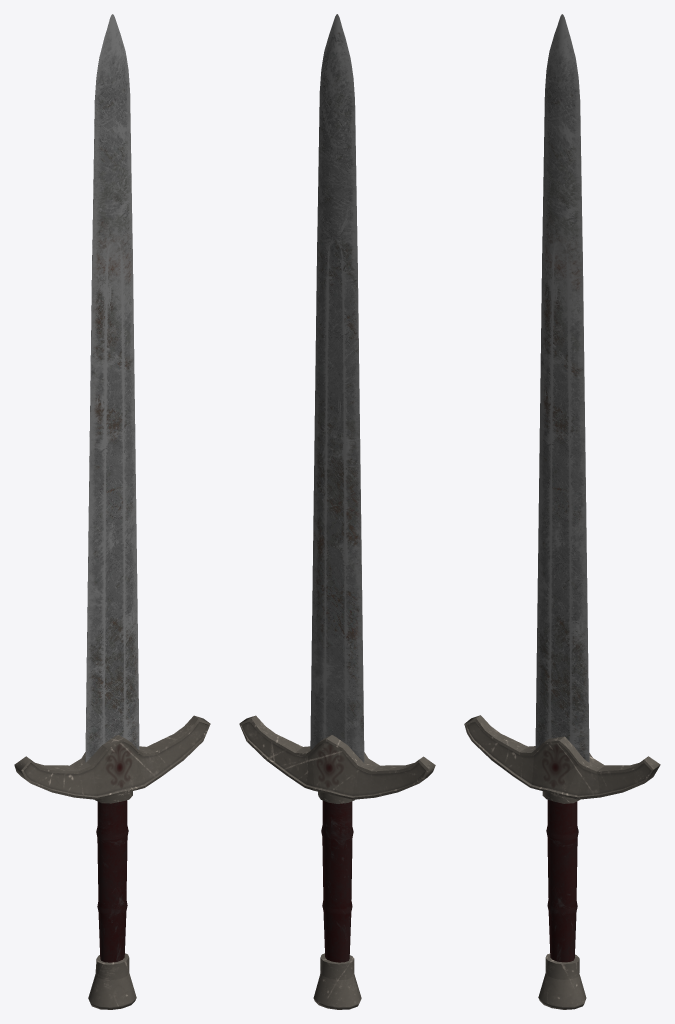
The model's file is ARC0510128.fbx.
3 renders of one model, left to right at view 1: azimuth 30°, elevation 25°; view 2: azimuth 150°, elevation 25°; view 3: azimuth 330°, elevation 25°, orthographic.
Parts seen in each view (by area): view 1: smARC0510128; view 2: smARC0510128; view 3: smARC0510128.
Part boxes in pixels (x1,y1,x2,y2): smARC0510128: (14, 14, 210, 1009); smARC0510128: (239, 14, 435, 1009); smARC0510128: (464, 14, 660, 1009).
Bounding box in the file's own units: 23.84 × 119 × 4.82.
1 material, 1 textured.
